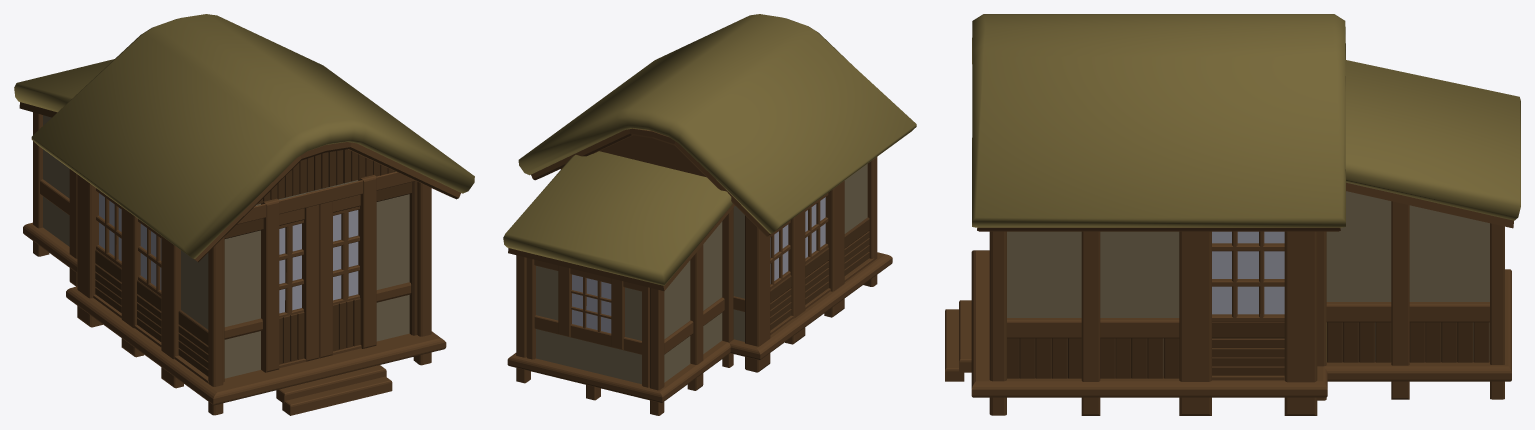
Rendered from CasaComprida.fbx.
3 views of the same model, side by side, from view 1: azimuth 30°, elevation 25°; view 2: azimuth 150°, elevation 25°; view 3: azimuth 270°, elevation 25° (orthographic). The views are drawn at different scales.
Visible parts, largest first — view 1: CasaComprida_LOD0; view 2: CasaComprida_LOD0; view 3: CasaComprida_LOD0.
Part boxes in pixels (bbox=[...]): CasaComprida_LOD0: bbox=[14, 14, 474, 415]; CasaComprida_LOD0: bbox=[503, 14, 916, 415]; CasaComprida_LOD0: bbox=[945, 14, 1520, 415].
Size of what is drawn, in the model's own units: 507 by 445 by 715.
